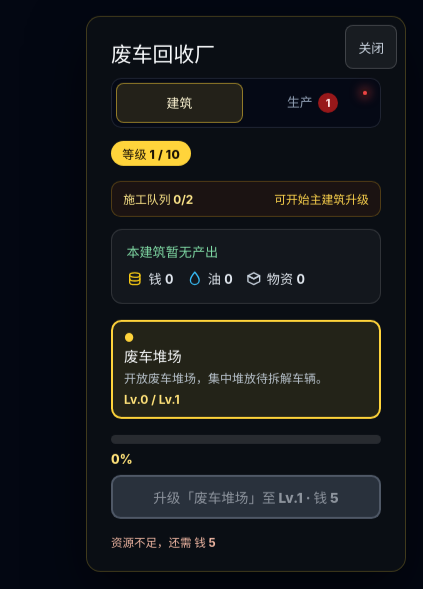
Test case: BuildingPanel › recycling-yard production tabs › renders a read-only tick-driven preview with badge, progress, storage, and cap
Click the button "生产 1": (313, 102) [249, 82, 376, 122]
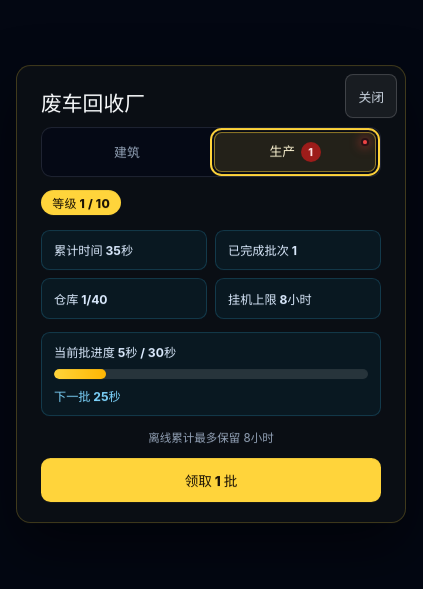
Expected: the text "累计时间 35秒" is shown, [41, 230, 207, 270]
Expected: the text "已完成批次 1" is shown, [215, 230, 381, 270]
Expected: the text "当前批进度 5秒 / 30秒" is shown, [54, 345, 176, 360]
